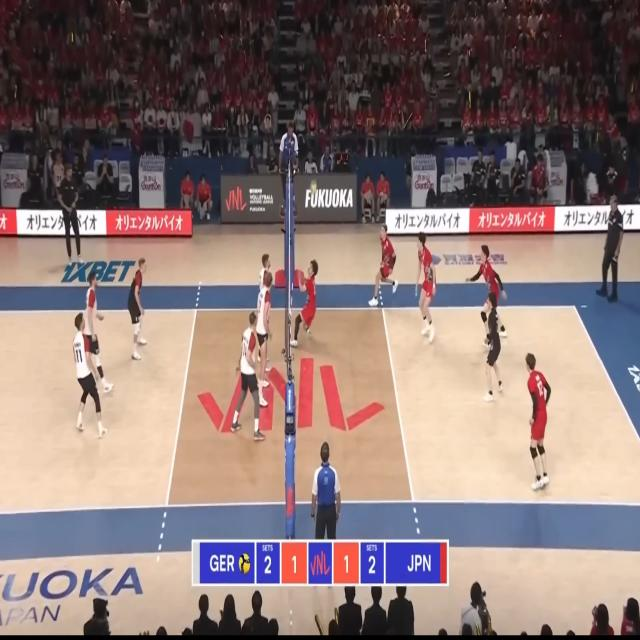ball: (311, 180, 317, 194)
